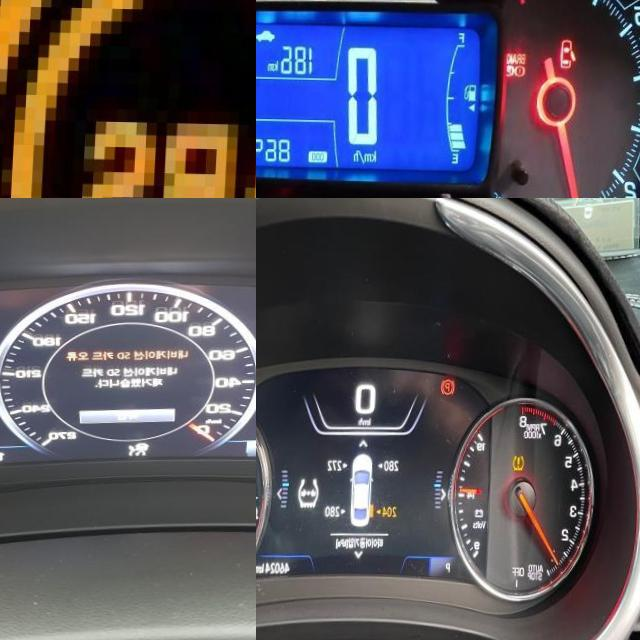Doors: (563, 35, 581, 66)
